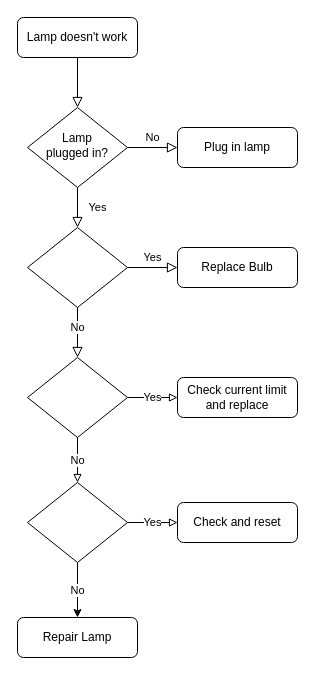
Image size: 315x675. Some labels were removed from this diagram. The shapes that lost their labels are listed below. From the top down, each one's centre as x and y in pixels, then its label:
At (77,267): "Bulb burned out?".
At (77,397): "Fuse blown?".
At (77,522): "Circuit tripped?".
